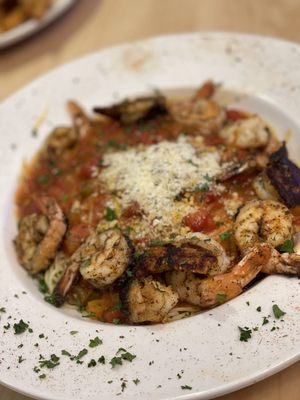curry: (1, 0, 298, 361)
sandwich: (4, 79, 300, 324), (0, 0, 59, 35)
